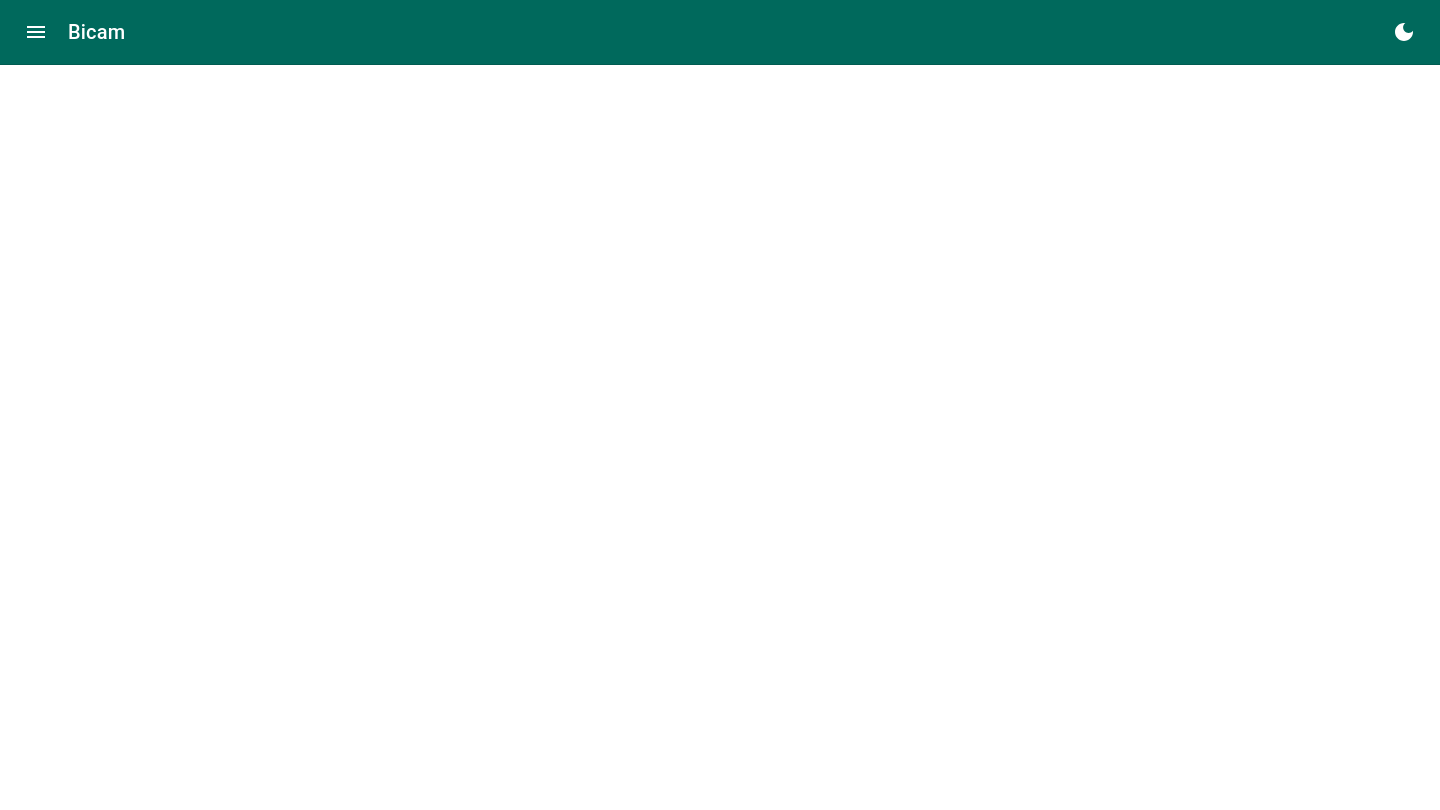
App › switches between the light and dark color schemes from the header toggle
Later steps or results of the test are not shown.
// jsdom reports no `prefers-color-scheme: dark`, so the system mode resolves to light.
Click the button named "Switch to dark theme" at (1404, 32), box left=1380, top=8, right=1428, bottom=56
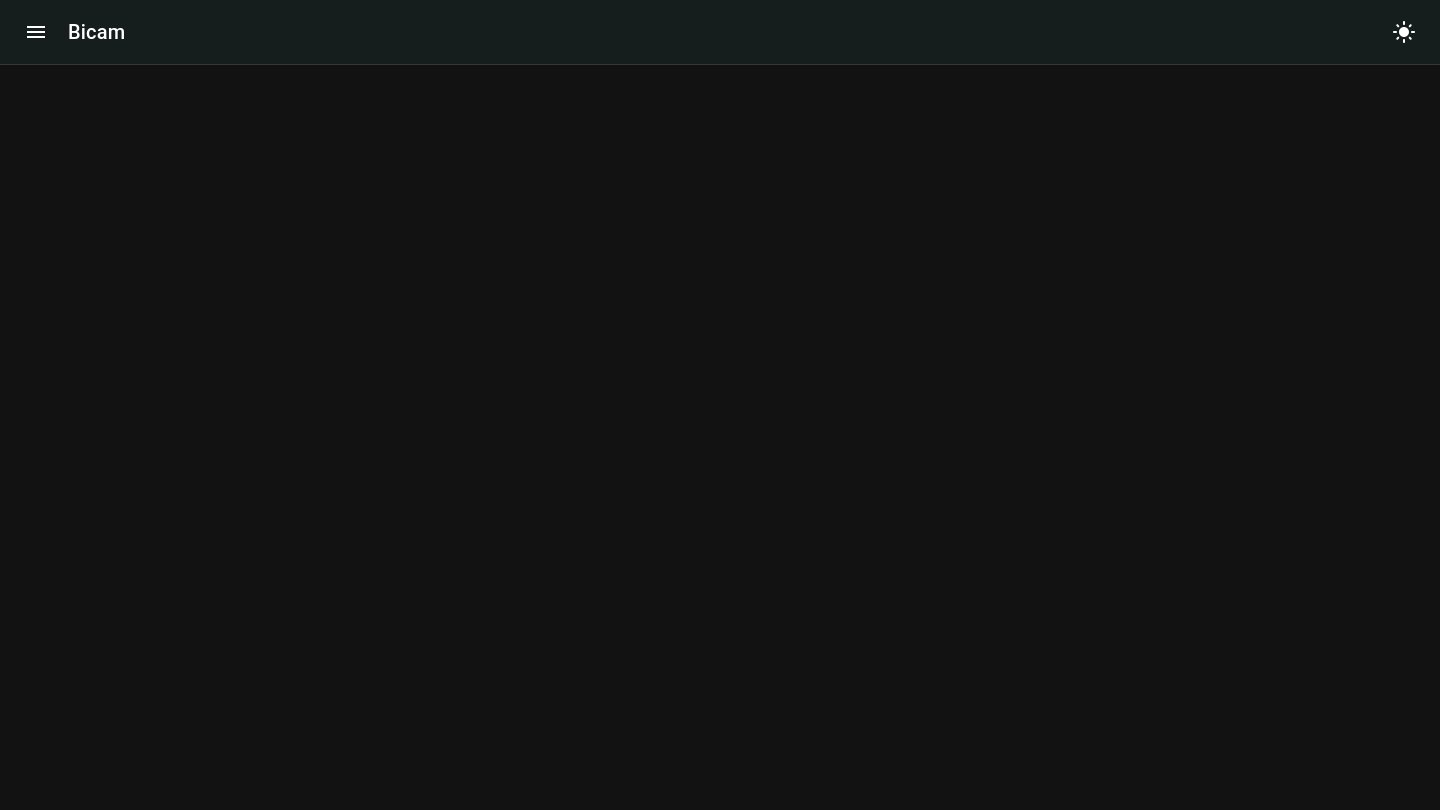
expect the icon with test id "LightModeIcon" is shown: met, box left=1392, top=20, right=1416, bottom=44
